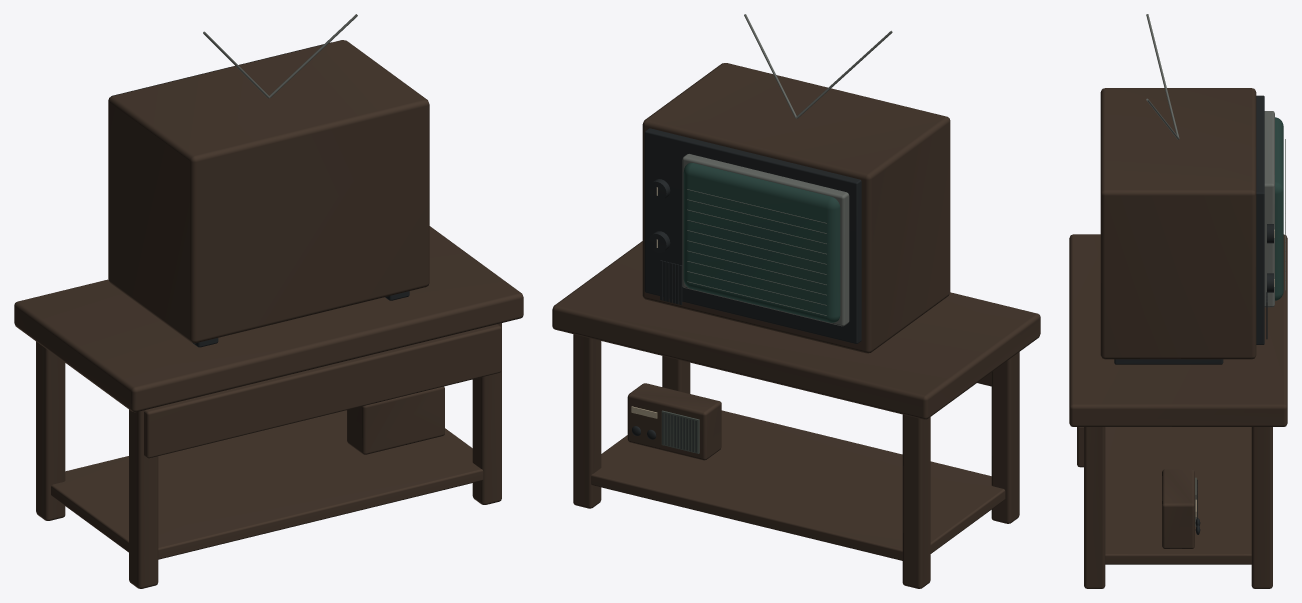
The model's file is prop-tv-console-v01.glb.
3 views of the same model, side by side, from view 1: azimuth 30°, elevation 25°; view 2: azimuth 150°, elevation 25°; view 3: azimuth 270°, elevation 25° (orthographic). The views are drawn at different scales.
Parts seen in each view (by area): view 1: tv-console; view 2: tv-console; view 3: tv-console.
Part boxes in pixels (x1=…): tv-console: x1=14, y1=14, x2=523, y2=588; tv-console: x1=552, y1=14, x2=1040, y2=588; tv-console: x1=1069, y1=14, x2=1287, y2=588.
Size of the model in its own units: 1.05 by 1.3 by 0.56.
